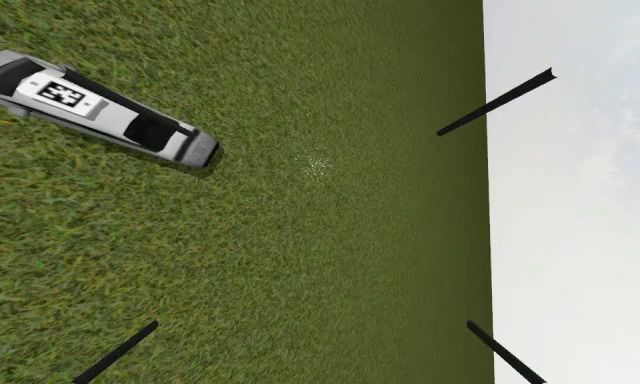Car: (1, 49, 220, 174)
Landing Pad: (17, 71, 103, 118)
